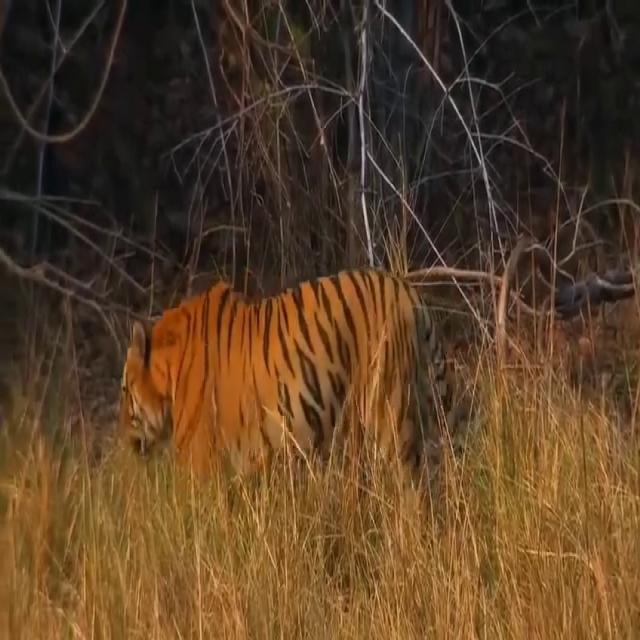tiger: (120, 268, 458, 560)
